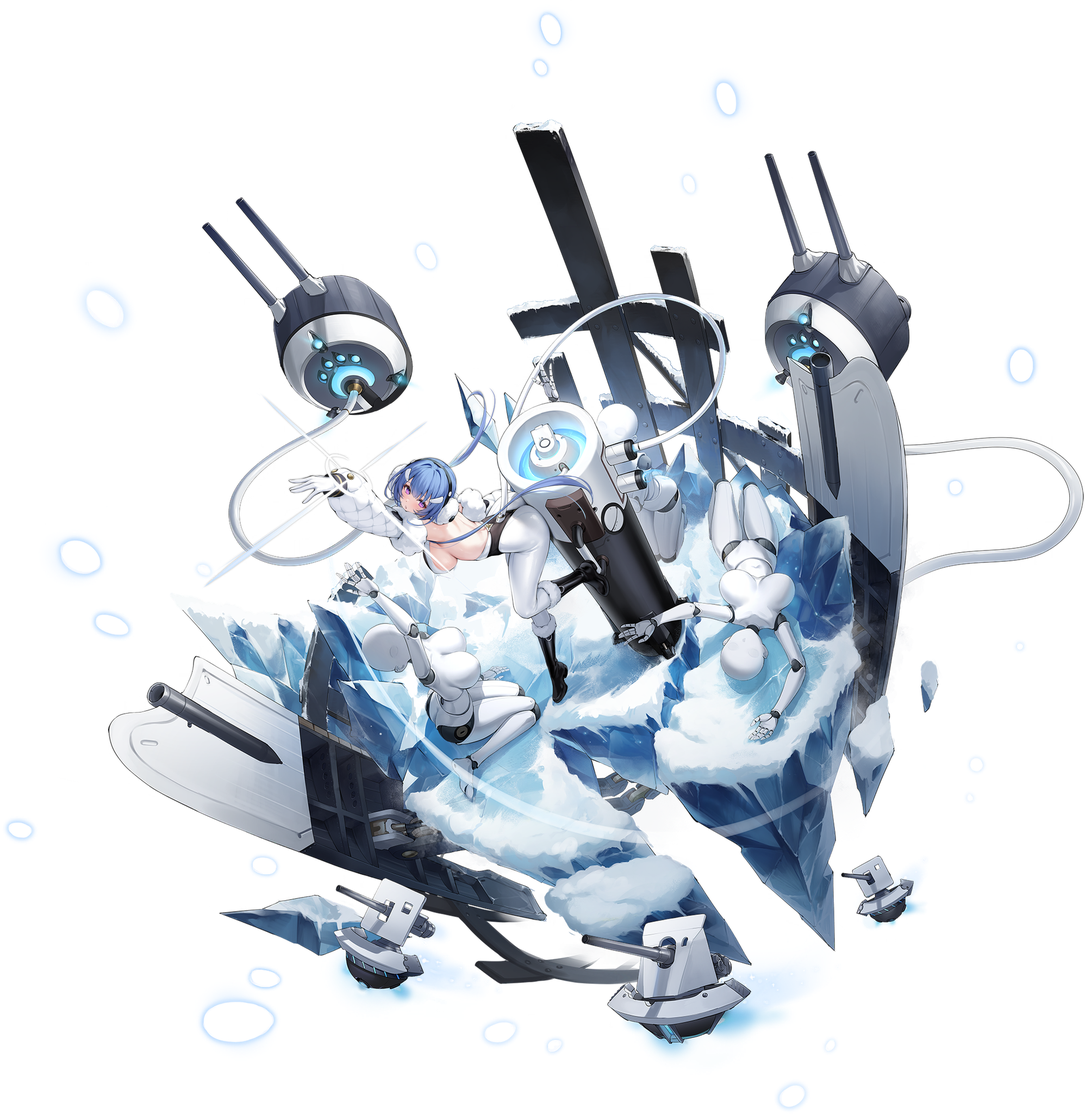person: (3, 7, 1083, 1111)
